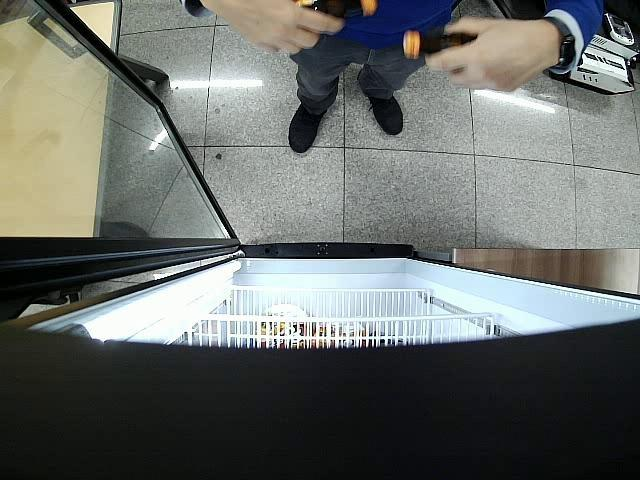17_vita500: (404, 30, 478, 59), (294, 0, 376, 16)
